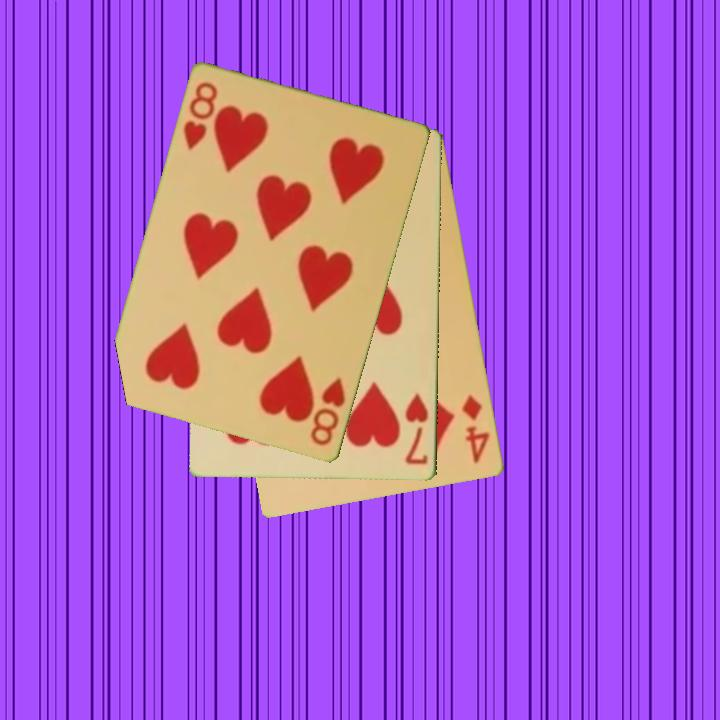4d: (458, 392, 493, 467)
7h: (402, 389, 431, 468)
8h: (307, 375, 349, 449), (180, 79, 221, 153)
